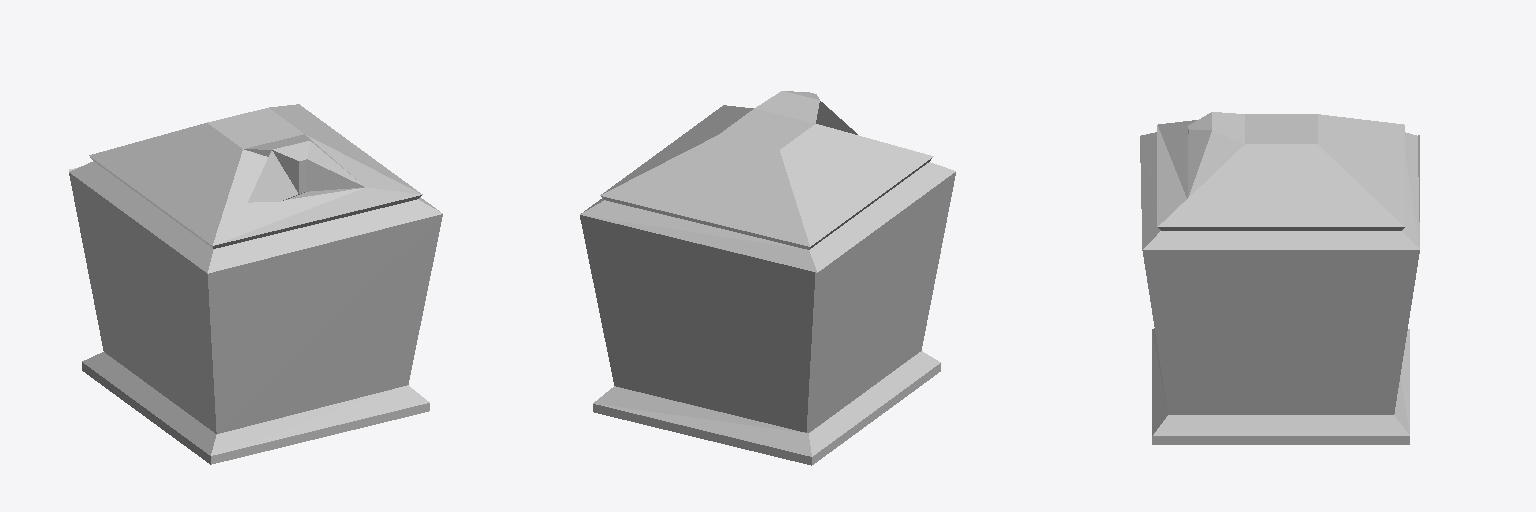
Rendered from maquina.obj.
The picture shows the model from 3 angles: view 1: azimuth 30°, elevation 25°; view 2: azimuth 150°, elevation 25°; view 3: azimuth 270°, elevation 25°; orthographic projection.
Visible parts, largest first — view 1: maquina; view 2: maquina; view 3: maquina.
Boxes of the visible parts, x1,y1,x2,y2 form: maquina: [69, 104, 442, 464]; maquina: [580, 91, 955, 465]; maquina: [1140, 112, 1419, 444].
Bounding box in the file's own units: 6.41 × 7.01 × 6.57.